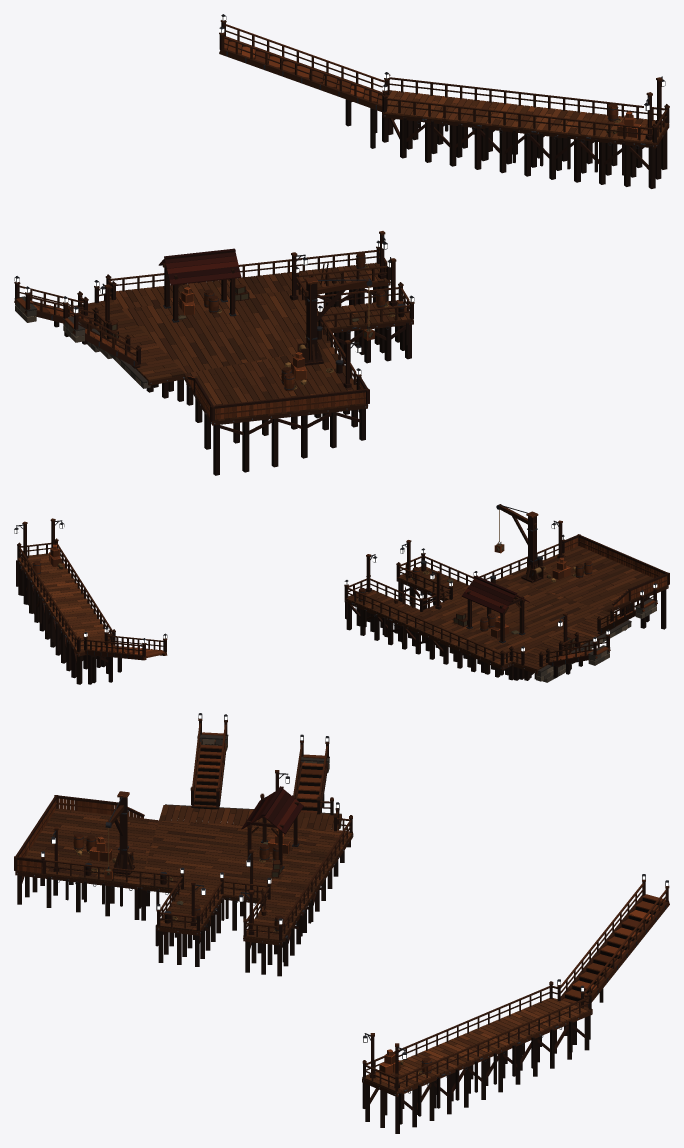
Rendered from wickharbor_harbor_source.glb.
3 renders of one model, top to bottom at view 1: azimuth 30°, elevation 25°; view 2: azimuth 150°, elevation 25°; view 3: azimuth 270°, elevation 25°, orthographic. The views are drawn at different scales.
Visible parts, largest first — view 1: HarborDecks, HarborFrame, HarborRails, HarborCargo, HarborStairs, HarborLanterns, HarborTrim, HarborClutter; view 2: HarborDecks, HarborFrame, HarborRails, HarborCargo, HarborStairs, HarborLanterns, HarborTrim, HarborClutter; view 3: HarborDecks, HarborFrame, HarborRails, HarborStairs, HarborCargo, HarborTrim, HarborLanterns.
Boxes of the visible parts, x1,y1,x2,y2 form: HarborDecks: (75,90,668,421); HarborFrame: (70,112,669,475); HarborRails: (14,20,669,389); HarborCargo: (158,103,641,391); HarborStairs: (14,36,382,368); HarborLanterns: (14,14,665,388); HarborTrim: (51,51,669,423); HarborClutter: (106,111,632,389); HarborDecks: (17,546,667,670); HarborFrame: (17,534,669,684); HarborRails: (17,538,657,666); HarborCargo: (32,504,592,643); HarborStairs: (85,598,657,684); HarborLanterns: (14,518,657,651); HarborTrim: (16,560,667,672); HarborClutter: (53,544,584,648); HarborDecks: (15,805,592,1092); HarborFrame: (14,795,592,1133); HarborRails: (41,718,669,1091); HarborStairs: (191,732,669,1039); HarborCargo: (73,786,431,1075); HarborTrim: (16,760,666,1124); HarborLanterns: (41,713,669,1088).
Bounding box in the file's own units: 68.62 × 13.41 × 58.96.
